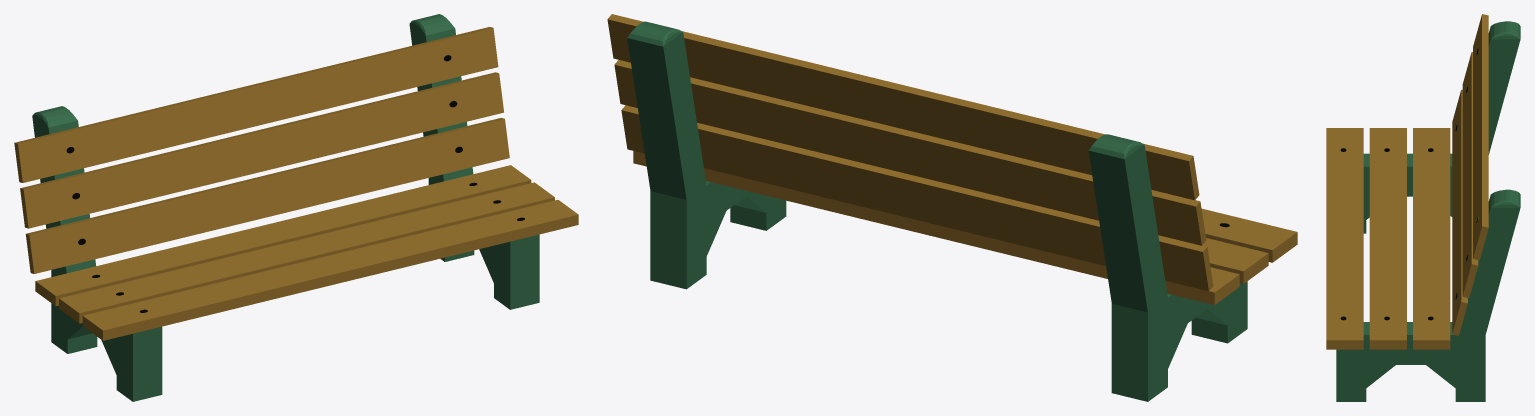
The model's file is bench.glb.
The picture shows the model from 3 angles, left to right: view 1: azimuth 30°, elevation 25°; view 2: azimuth 150°, elevation 25°; view 3: azimuth 270°, elevation 25°; orthographic projection. The views are drawn at different scales.
Parts seen in each view (by area): view 1: 立方体; view 2: 立方体; view 3: 立方体.
Boxes of the visible parts, x1=… form: 立方体: x1=14, y1=14, x2=578, y2=401; 立方体: x1=607, y1=14, x2=1297, y2=401; 立方体: x1=1326, y1=14, x2=1520, y2=401.
Size of the model in its own units: 1.5 by 0.66 by 0.58.
